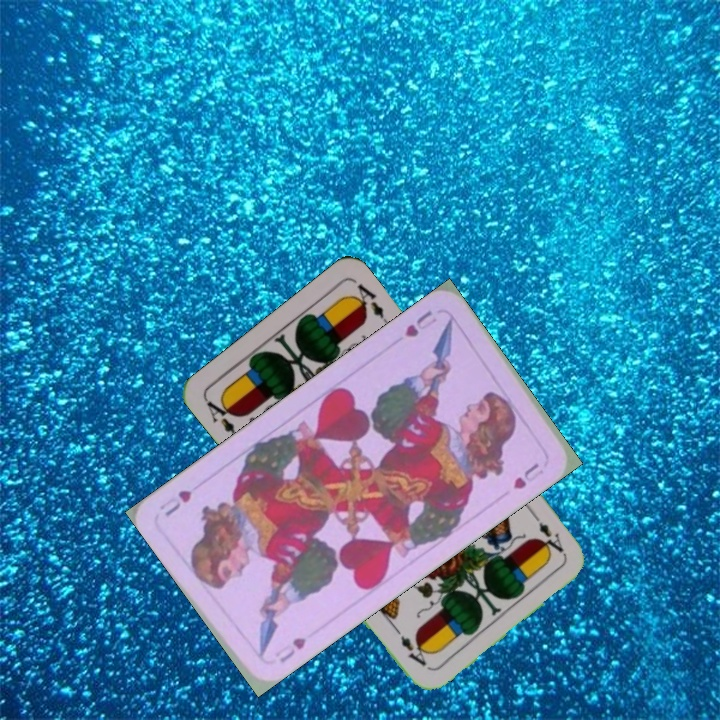EA: (527, 507, 568, 558), (199, 393, 239, 437)
HU: (400, 306, 440, 340), (276, 633, 309, 666)
